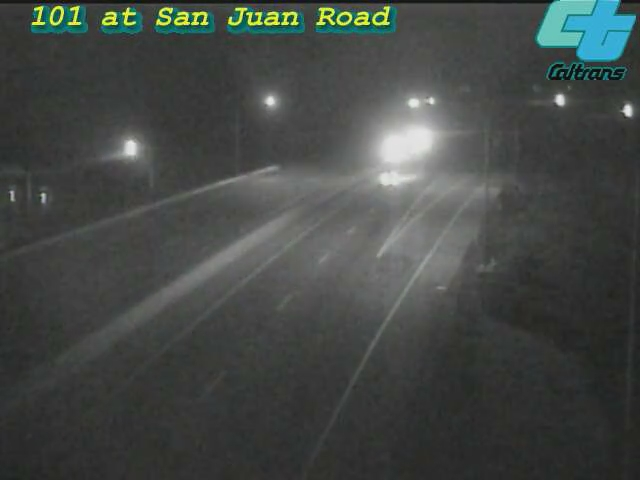vehicle: (127, 186, 207, 266), (350, 138, 430, 218), (371, 123, 421, 173), (392, 114, 442, 164), (603, 88, 640, 138)
